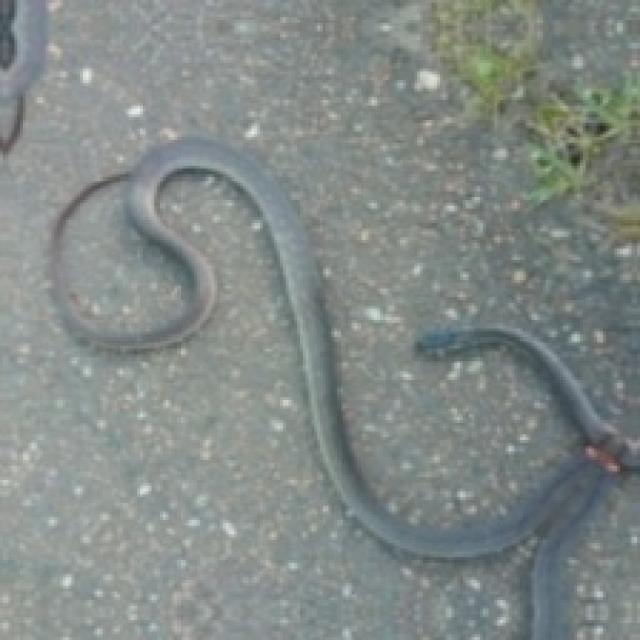reddish rat snake: (51, 137, 611, 637), (417, 326, 637, 469)
